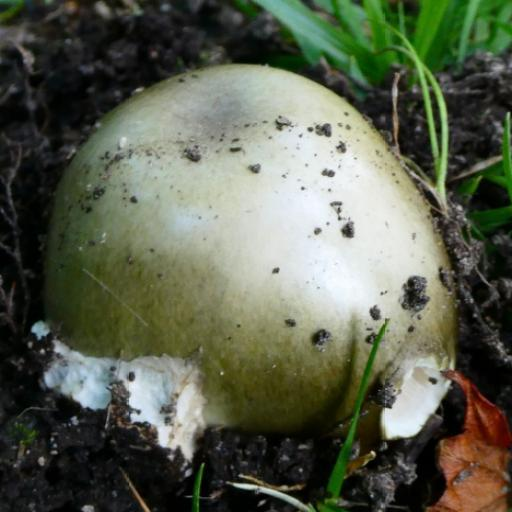mushroom: (50, 70, 460, 440)
